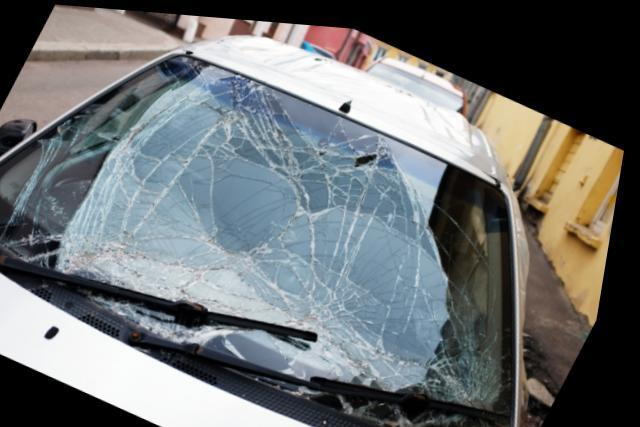glass shatter: (0, 51, 528, 427)
